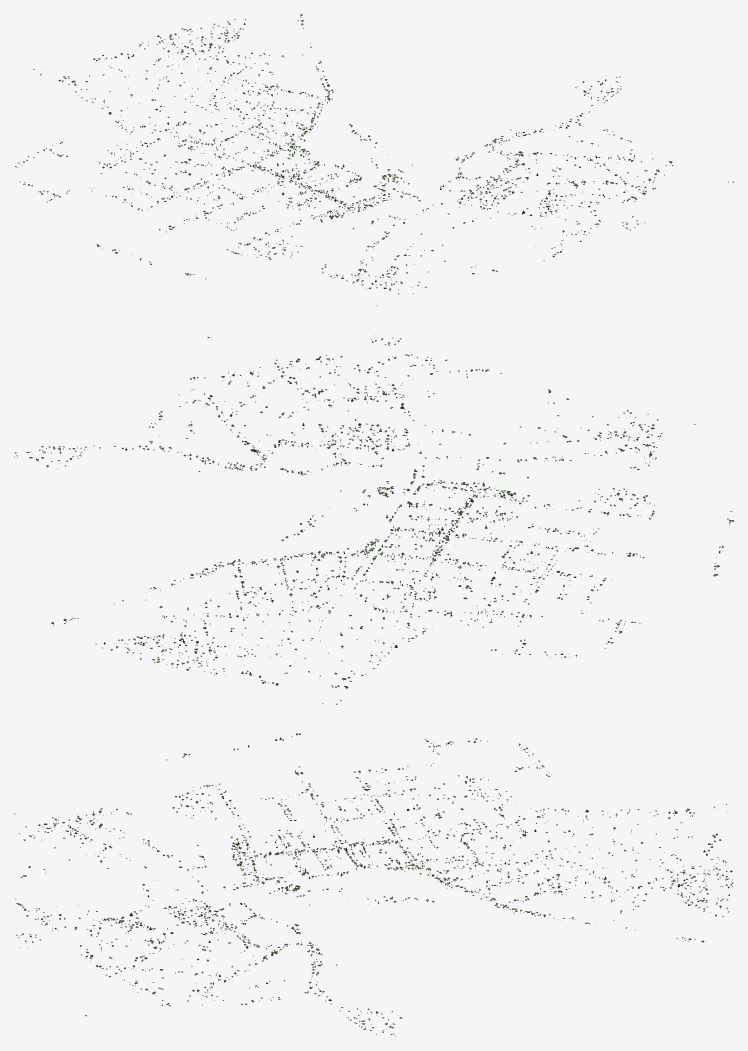
Rendered from york_park_backdrop_part2.glb.
The picture shows the model from 3 angles, top to bottom: view 1: azimuth 30°, elevation 25°; view 2: azimuth 150°, elevation 25°; view 3: azimuth 270°, elevation 25°; orthographic projection. The views are drawn at different scales.
Visible parts, largest first — view 1: bg_trees_joined; view 2: bg_trees_joined; view 3: bg_trees_joined.
Part boxes in pixels (left/top/right/bottom): bg_trees_joined: left=15, top=14, right=733, bottom=305; bg_trees_joined: left=14, top=335, right=733, bottom=704; bg_trees_joined: left=14, top=733, right=733, bottom=1036.
Bounding box in the file's own units: 2965 × 90.99 × 2994.
Materials: 1 (1 with a texture image).
